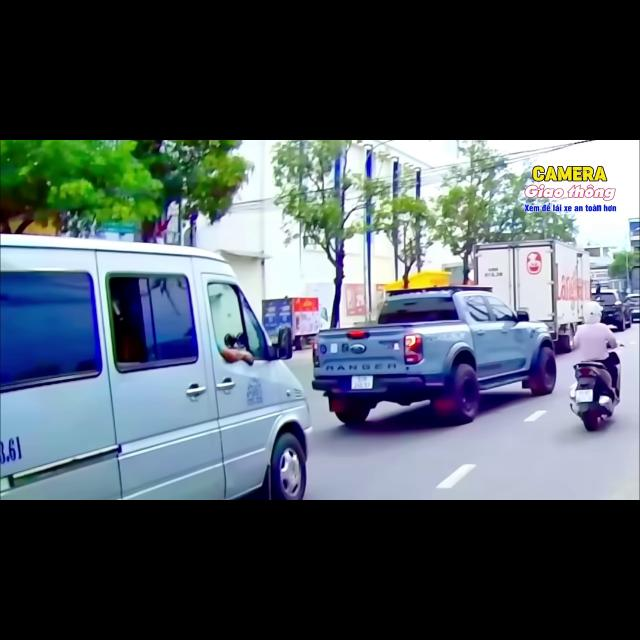car: (0, 234, 311, 499), (312, 286, 555, 425), (592, 288, 632, 330), (625, 294, 639, 320)
truck: (472, 240, 591, 353), (262, 297, 327, 349), (628, 266, 639, 293)
